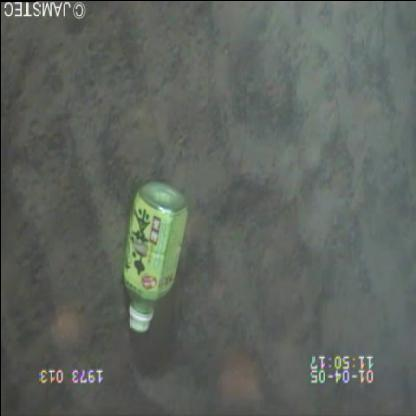Rác: (113, 175, 194, 343)
